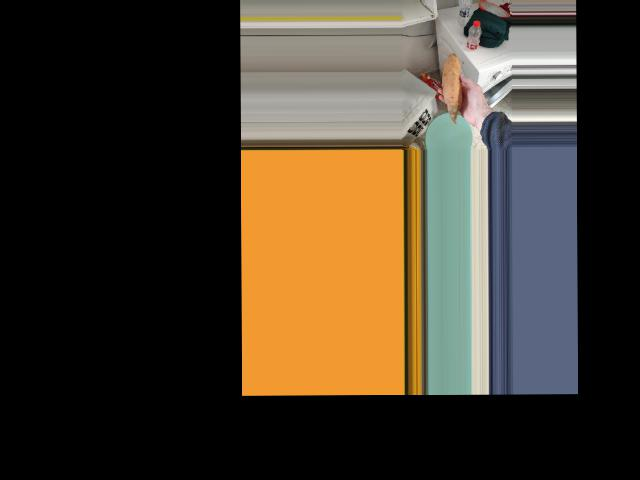sweet_potato: (445, 62, 466, 109)
